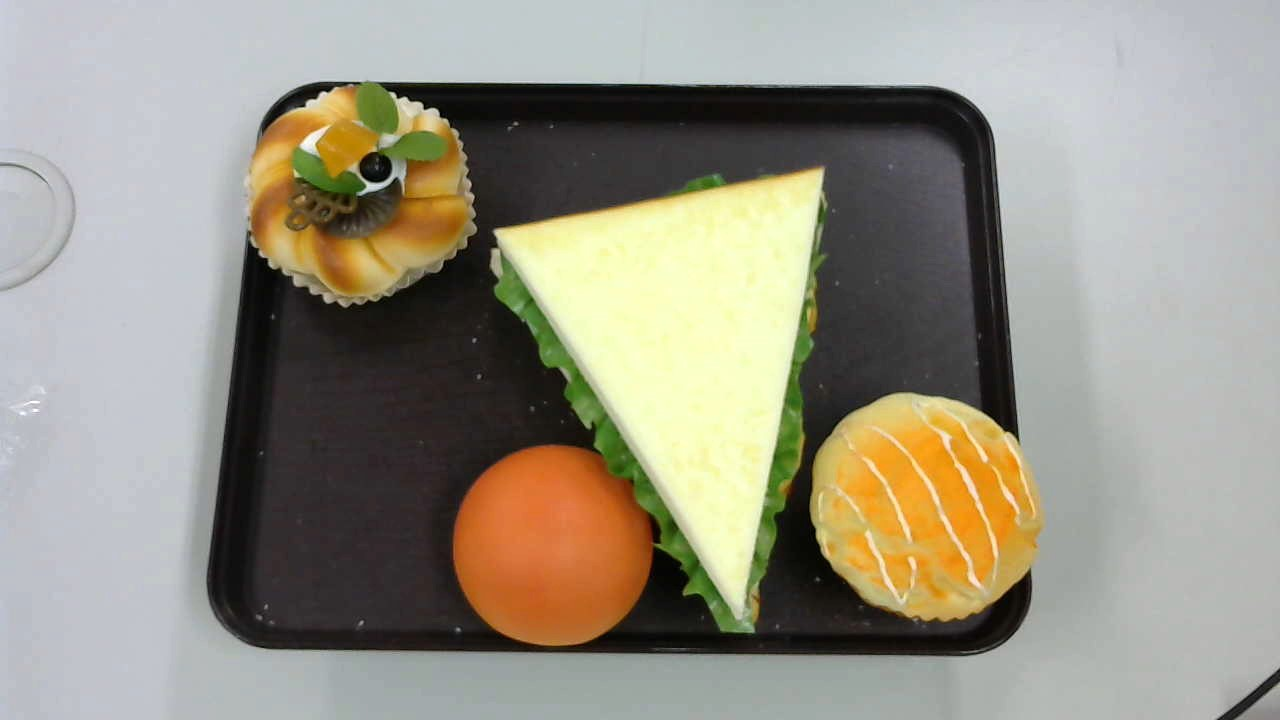bun: (452, 444, 655, 647)
cupcake: (808, 393, 1044, 624)
fruit tart: (246, 80, 480, 307)
sandwich: (489, 166, 829, 632)
